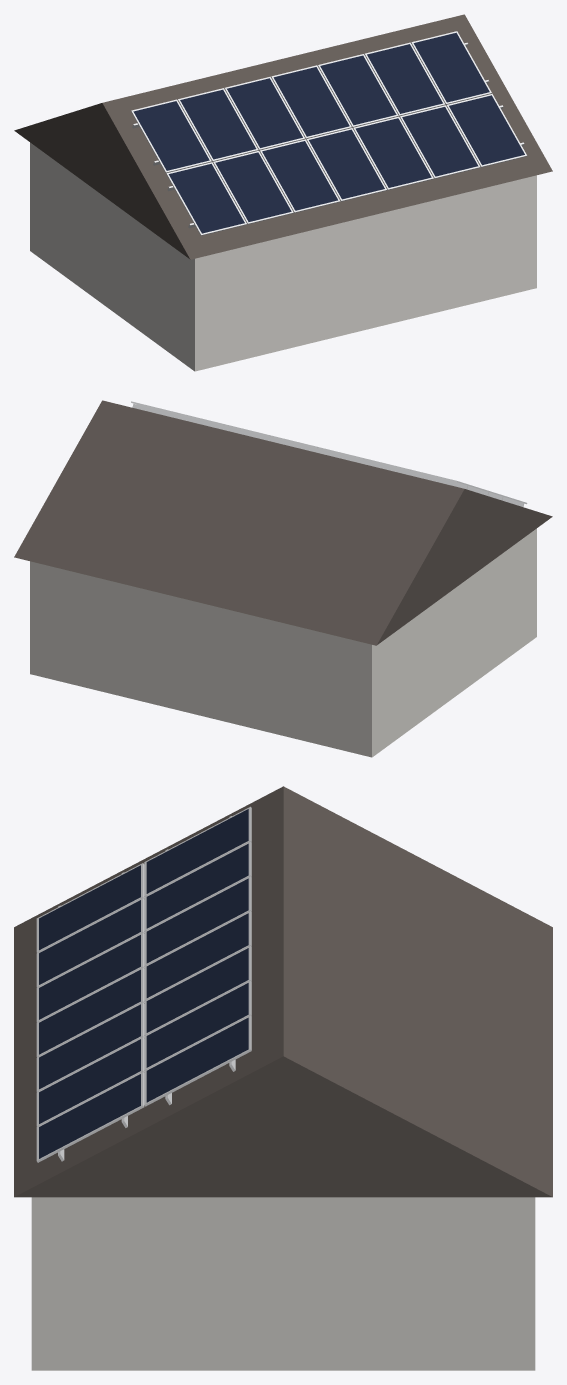
3 renders of one model, top to bottom at view 1: azimuth 30°, elevation 25°; view 2: azimuth 150°, elevation 25°; view 3: azimuth 270°, elevation 25°, orthographic. The views are drawn at different scales.
Parts seen in each view (by area): view 1: wall.1, roof.1, cell.3, cell.8, cell.11, cell.6, cell.9, cell.1, cell.2, cell.5, cell.7, cell.13 (+18 smaller); view 2: roof.1, wall.1, metal.4; view 3: roof.1, wall.1, cell.9, cell.14, cell.10, cell.11, cell.12, cell.8, cell.13, cell.2, cell.4, cell.5 (+6 smaller).
Boxes of the visible parts, <box> form: wall.1: <box>30,142,536,371</box>; roof.1: <box>14,14,552,259</box>; cell.3: <box>262,141,337,210</box>; cell.8: <box>133,101,209,170</box>; cell.11: <box>273,67,349,136</box>; cell.6: <box>402,107,477,176</box>; cell.9: <box>180,89,255,159</box>; cell.1: <box>169,164,244,233</box>; cell.2: <box>215,152,291,221</box>; cell.5: <box>355,118,431,187</box>; cell.7: <box>449,95,524,165</box>; cell.13: <box>367,44,442,113</box>; roof.1: <box>14,400,552,645</box>; wall.1: <box>30,528,536,757</box>; metal.4: <box>132,404,467,489</box>; roof.1: <box>14,786,552,1197</box>; wall.1: <box>31,1197,535,1370</box>; cell.9: <box>146,843,248,928</box>; cell.14: <box>146,1017,248,1102</box>; cell.10: <box>146,878,248,963</box>; cell.11: <box>146,913,248,997</box>; cell.12: <box>146,948,248,1032</box>; cell.8: <box>146,809,248,893</box>; cell.13: <box>146,983,248,1067</box>; cell.2: <box>39,900,140,984</box>; cell.4: <box>39,969,140,1054</box>; cell.5: <box>39,1004,140,1089</box>.
Size of the model in its own units: 8.96 by 4.98 by 7.56.
